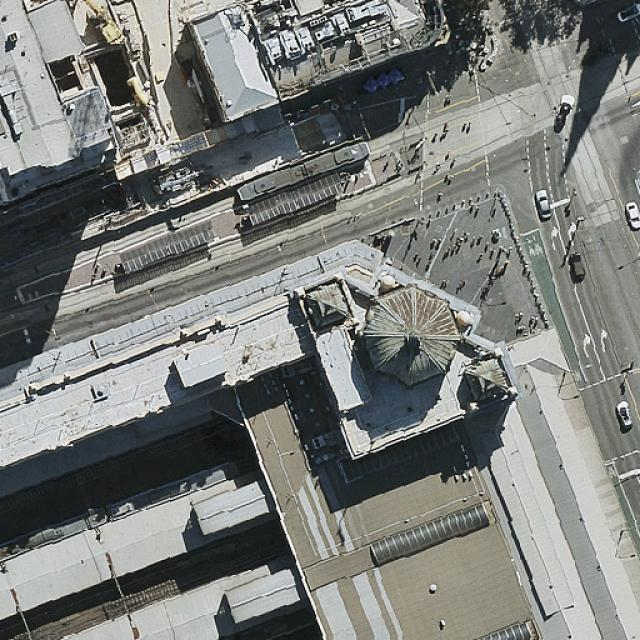Bike-Symbols: (606, 464, 618, 478), (526, 245, 538, 257), (573, 368, 583, 382), (532, 243, 544, 254)
